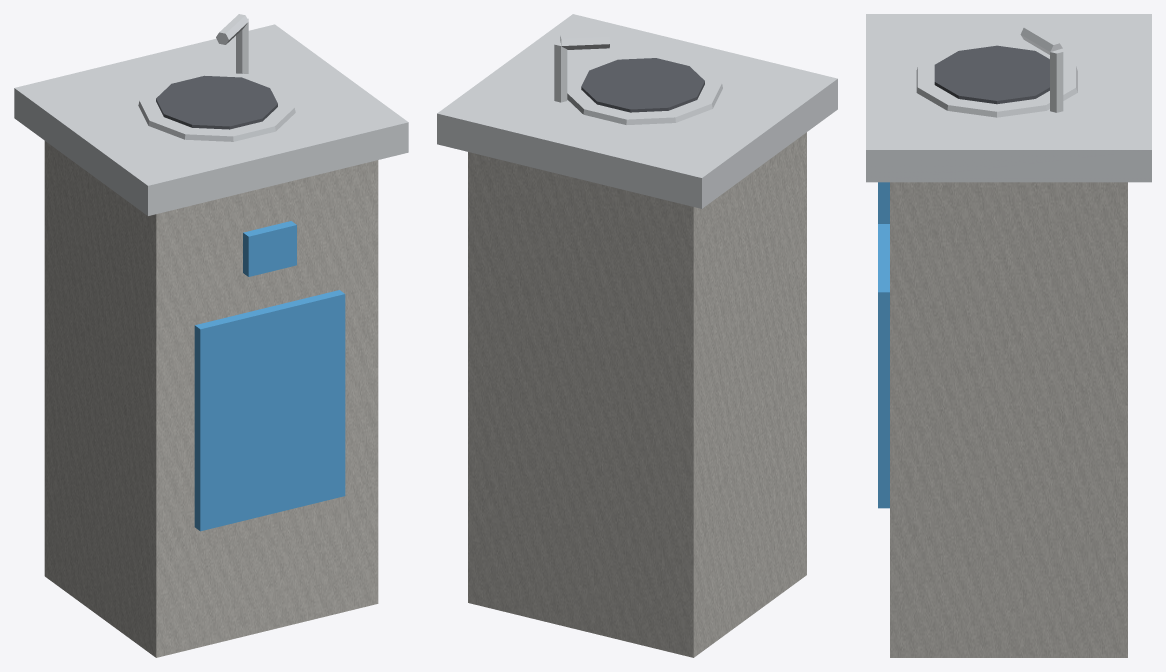
The model's file is 33676-Park-Drinking-Fountain-City-Park-and-Playground.glb.
3 renders of one model, left to right at view 1: azimuth 30°, elevation 25°; view 2: azimuth 150°, elevation 25°; view 3: azimuth 270°, elevation 25°, orthographic. The views are drawn at different scales.
Visible parts, largest first — view 1: drinking-fountain-paving, drinking-fountain-steel, drinking-fountain-azure, drinking-fountain-charcoal; view 2: drinking-fountain-paving, drinking-fountain-steel, drinking-fountain-charcoal; view 3: drinking-fountain-paving, drinking-fountain-steel, drinking-fountain-charcoal, drinking-fountain-azure.
Boxes of the visible parts, x1,y1,x2,y2 form: drinking-fountain-paving: [44, 141, 378, 657]; drinking-fountain-steel: [14, 14, 408, 215]; drinking-fountain-azure: [194, 221, 345, 531]; drinking-fountain-charcoal: [156, 75, 277, 129]; drinking-fountain-paving: [468, 132, 806, 657]; drinking-fountain-steel: [437, 14, 837, 208]; drinking-fountain-charcoal: [581, 58, 704, 112]; drinking-fountain-paving: [890, 182, 1127, 657]; drinking-fountain-steel: [866, 14, 1151, 182]; drinking-fountain-charcoal: [934, 45, 1049, 104]; drinking-fountain-azure: [878, 182, 889, 508].
Size of the model in its own units: 0.54 by 1.08 by 0.48.
4 materials, 1 textured.
